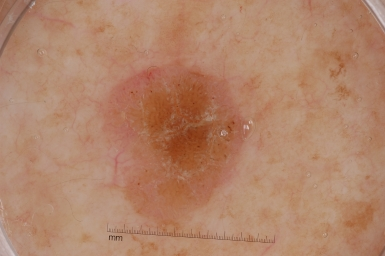seborrheic keratosis: (92, 57, 260, 226)
